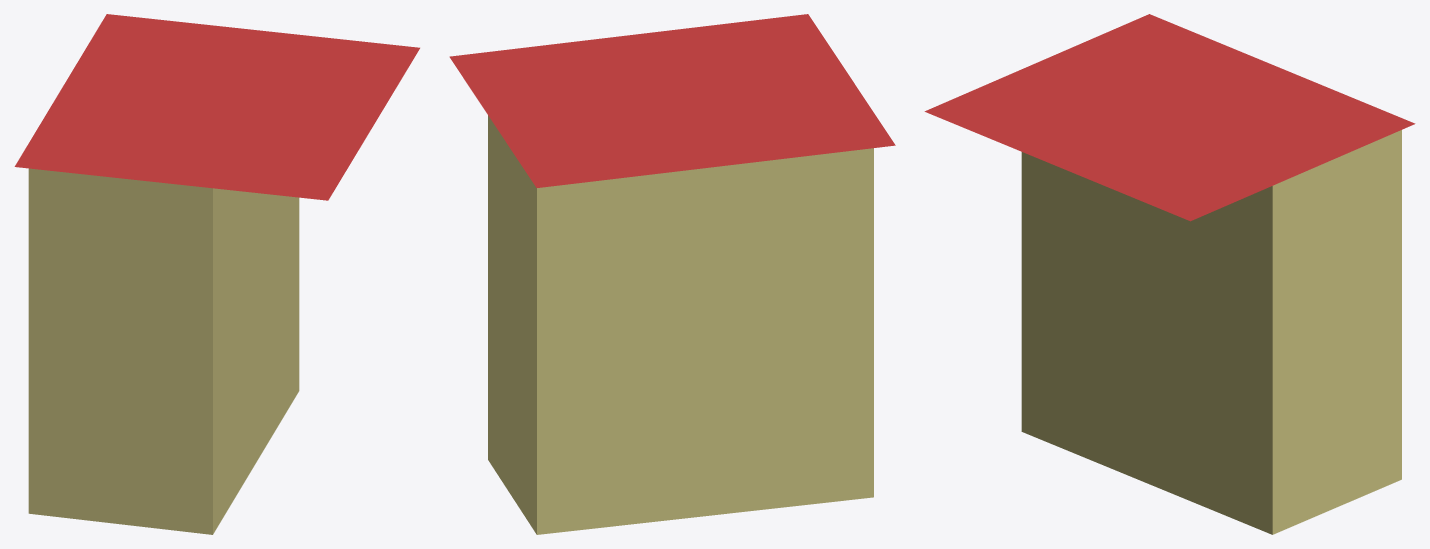
3 renders of one model, left to right at view 1: azimuth 30°, elevation 25°; view 2: azimuth 150°, elevation 25°; view 3: azimuth 270°, elevation 25°, orthographic.
Bounding box in the file's own units: 8.48 × 8.49 × 6.72.
